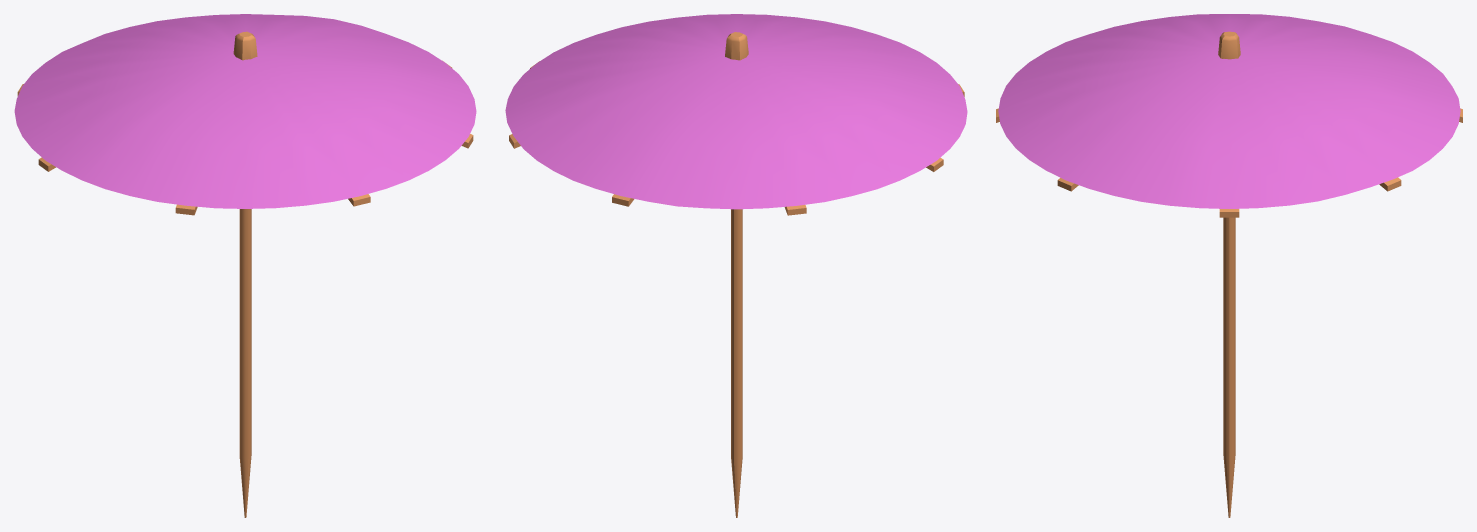
The model's file is Umbrella.fbx.
3 renders of one model, left to right at view 1: azimuth 30°, elevation 25°; view 2: azimuth 150°, elevation 25°; view 3: azimuth 270°, elevation 25°, orthographic.
Visible parts, largest first — view 1: Circle.002; view 2: Circle.002; view 3: Circle.002.
Boxes of the visible parts, bbox=[...] form: Circle.002: bbox=[14, 14, 476, 517]; Circle.002: bbox=[505, 14, 967, 517]; Circle.002: bbox=[996, 14, 1462, 517].
Size of the model in its own units: 200 by 228 by 200.
